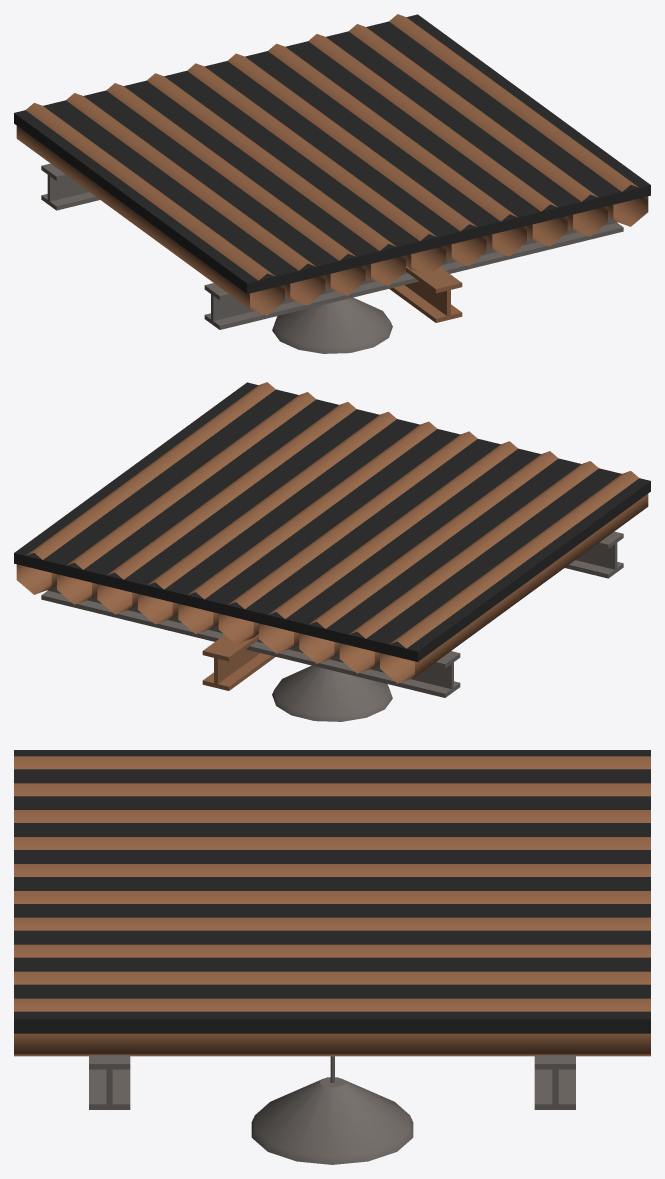
Rendered from ceil_wk_lamp.glb.
3 renders of one model, top to bottom at view 1: azimuth 30°, elevation 25°; view 2: azimuth 150°, elevation 25°; view 3: azimuth 270°, elevation 25°, orthographic. The views are drawn at different scales.
Parts seen in each view (by area): view 1: ceil_wk_lamp; view 2: ceil_wk_lamp; view 3: ceil_wk_lamp.
Boxes of the visible parts, x1,y1,x2,y2 form: ceil_wk_lamp: (14, 14, 650, 353); ceil_wk_lamp: (14, 382, 650, 721); ceil_wk_lamp: (14, 750, 650, 1164).
Bounding box in the file's own units: 4 × 1.8 × 4.
